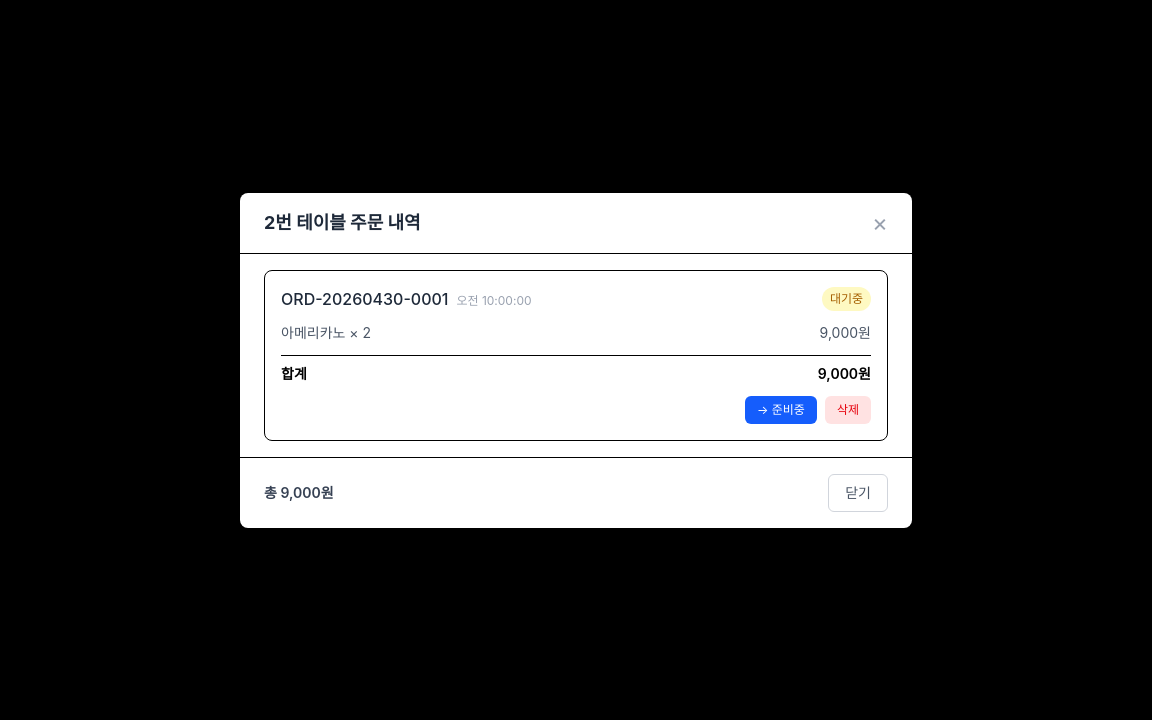
Test: OrderDetailModal › 삭제 버튼 클릭 시 삭제 확인 팝업이 표시된다
Click the button with test id "order-delete-button-10": (848, 410) left=825, top=396, right=871, bottom=424
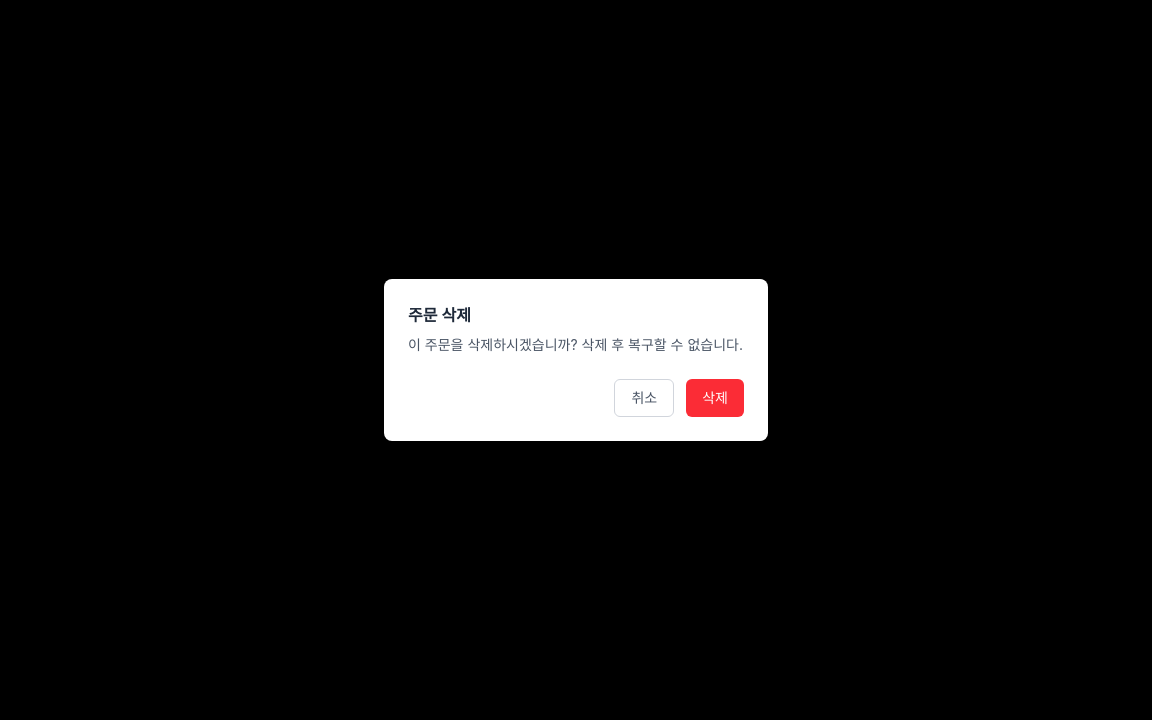
Result: the element with test id "delete-confirm-modal" is shown
